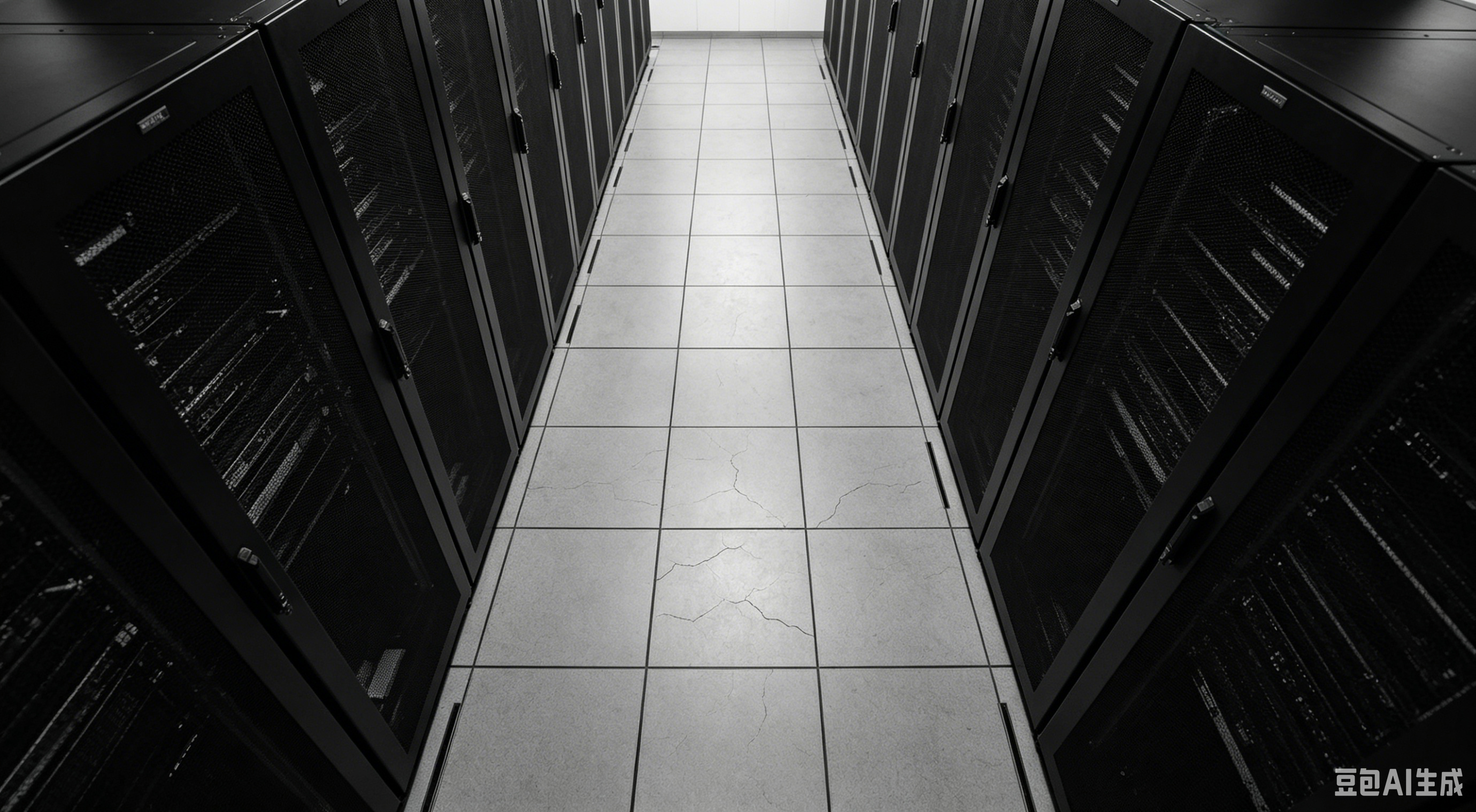floor_defect: (808, 480, 929, 530), (653, 537, 770, 581), (727, 591, 812, 643), (736, 488, 799, 534), (695, 437, 746, 491), (653, 593, 727, 630)
